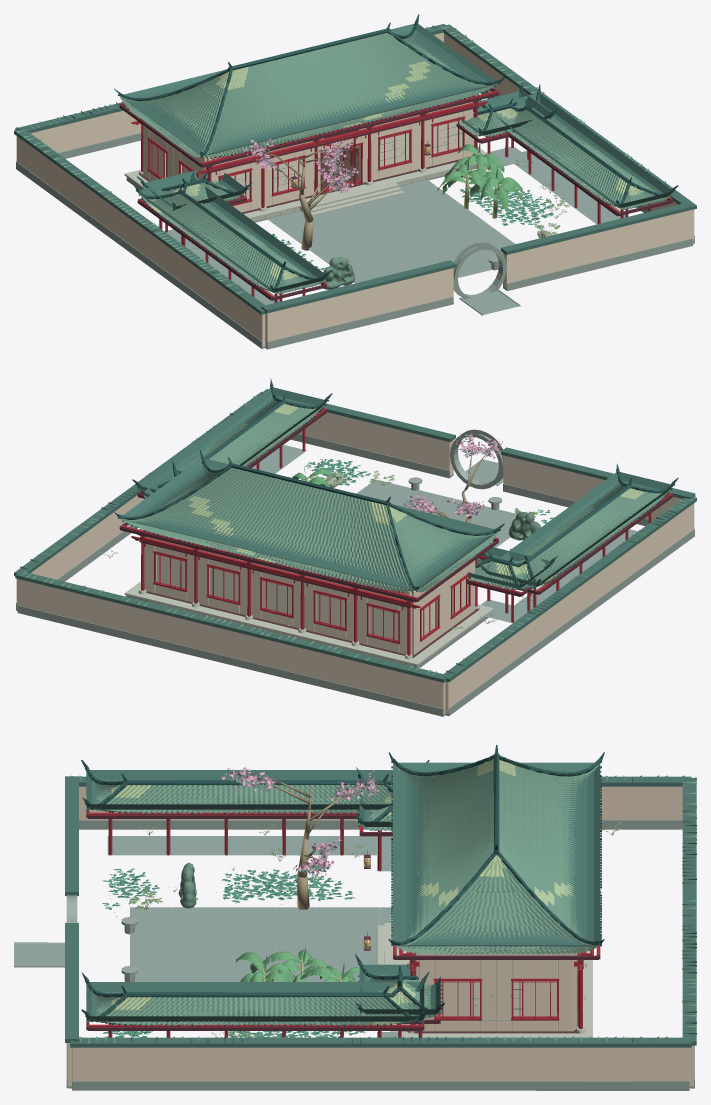
File: yihongyuan.glb
3 views of the same model, one above another, from view 1: azimuth 30°, elevation 25°; view 2: azimuth 150°, elevation 25°; view 3: azimuth 270°, elevation 25° (orthographic). The views are drawn at different scales.
Parts seen in each view (by area): view 1: r15_yihongyuan_Sunwen_r18_crimson_tile.001, r15_yihongyuan_Sunwen_r18_crimson_roof.001, r15_yihongyuan_Sunwen_r18_crimson_plaster.003, Mobile_yihongyuan_paving, r15_yihongyuan_Sunwen_r18_crimson_stone.001, r15_yihongyuan_Sunwen_r18_crimson_wood.001, r15_yihongyuan_Sunwen_r18_crimson_plaster.002, r15_yihongyuan_Sunwen_r18_crimson_tiledark.001, r15_yihongyuan_Sunwen_r18_crimson_darkwood.001, r15_yihongyuan_Sunwen_r18_crimson_cutstone.001, r15_yihongyuan_Sunwen_r18_crimson_screen.001, Mobile_yihongyuan_botanical_banana (+7 smaller); view 2: r15_yihongyuan_Sunwen_r18_crimson_tile.001, r15_yihongyuan_Sunwen_r18_crimson_plaster.003, r15_yihongyuan_Sunwen_r18_crimson_roof.001, r15_yihongyuan_Sunwen_r18_crimson_stone.001, r15_yihongyuan_Sunwen_r18_crimson_plaster.002, r15_yihongyuan_Sunwen_r18_crimson_wood.001, Mobile_yihongyuan_paving, r15_yihongyuan_Sunwen_r18_crimson_tiledark.001, r15_yihongyuan_Sunwen_r18_crimson_screen.001, r15_yihongyuan_Sunwen_r18_crimson_darkwood.001, r15_yihongyuan_Sunwen_r18_crimson_cutstone.001, r15_yihongyuan_Sunwen_r18_crimson_tilelight.001 (+4 smaller); view 3: r15_yihongyuan_Sunwen_r18_crimson_roof.001, r15_yihongyuan_Sunwen_r18_crimson_tile.001, r15_yihongyuan_Sunwen_r18_crimson_plaster.003, Mobile_yihongyuan_paving, r15_yihongyuan_Sunwen_r18_crimson_stone.001, r15_yihongyuan_Sunwen_r18_crimson_tiledark.001, r15_yihongyuan_Sunwen_r18_crimson_plaster.002, r15_yihongyuan_Sunwen_r18_crimson_wood.001, Mobile_yihongyuan_botanical_bamboo, r15_yihongyuan_Sunwen_r18_crimson_darkwood.001, r15_yihongyuan_Sunwen_r18_crimson_tilelight.001, r15_yihongyuan_Sunwen_r18_crimson_cutstone.001 (+6 smaller).
Boxes of the visible parts, left/top/right/bottom form: r15_yihongyuan_Sunwen_r18_crimson_tile.001: left=16, top=25, right=689, bottom=310; r15_yihongyuan_Sunwen_r18_crimson_roof.001: left=14, top=24, right=696, bottom=314; r15_yihongyuan_Sunwen_r18_crimson_plaster.003: left=16, top=32, right=694, bottom=347; Mobile_yihongyuan_paving: left=164, top=146, right=625, bottom=314; r15_yihongyuan_Sunwen_r18_crimson_stone.001: left=16, top=91, right=694, bottom=349; r15_yihongyuan_Sunwen_r18_crimson_wood.001: left=120, top=90, right=672, bottom=302; r15_yihongyuan_Sunwen_r18_crimson_plaster.002: left=143, top=95, right=474, bottom=212; r15_yihongyuan_Sunwen_r18_crimson_tiledark.001: left=114, top=14, right=678, bottom=291; r15_yihongyuan_Sunwen_r18_crimson_darkwood.001: left=119, top=87, right=672, bottom=300; r15_yihongyuan_Sunwen_r18_crimson_cutstone.001: left=124, top=147, right=486, bottom=221; r15_yihongyuan_Sunwen_r18_crimson_screen.001: left=166, top=120, right=462, bottom=199; Mobile_yihongyuan_botanical_banana: left=437, top=141, right=523, bottom=211; r15_yihongyuan_Sunwen_r18_crimson_tile.001: left=20, top=390, right=696, bottom=678; r15_yihongyuan_Sunwen_r18_crimson_plaster.003: left=16, top=412, right=694, bottom=714; r15_yihongyuan_Sunwen_r18_crimson_roof.001: left=14, top=387, right=696, bottom=682; r15_yihongyuan_Sunwen_r18_crimson_stone.001: left=16, top=429, right=694, bottom=716; r15_yihongyuan_Sunwen_r18_crimson_plaster.002: left=144, top=530, right=475, bottom=654; r15_yihongyuan_Sunwen_r18_crimson_wood.001: left=120, top=408, right=672, bottom=655; Mobile_yihongyuan_paving: left=252, top=444, right=637, bottom=623; r15_yihongyuan_Sunwen_r18_crimson_tiledark.001: left=114, top=378, right=678, bottom=592; r15_yihongyuan_Sunwen_r18_crimson_screen.001: left=156, top=555, right=452, bottom=640; r15_yihongyuan_Sunwen_r18_crimson_darkwood.001: left=119, top=408, right=672, bottom=657; r15_yihongyuan_Sunwen_r18_crimson_cutstone.001: left=124, top=581, right=493, bottom=666; r15_yihongyuan_Sunwen_r18_crimson_tilelight.001: left=188, top=402, right=644, bottom=583; r15_yihongyuan_Sunwen_r18_crimson_roof.001: left=65, top=762, right=696, bottom=1047; r15_yihongyuan_Sunwen_r18_crimson_tile.001: left=71, top=762, right=696, bottom=1043; r15_yihongyuan_Sunwen_r18_crimson_plaster.003: left=67, top=786, right=694, bottom=1086; Mobile_yihongyuan_paving: left=14, top=836, right=398, bottom=1037; r15_yihongyuan_Sunwen_r18_crimson_stone.001: left=14, top=820, right=694, bottom=1090; r15_yihongyuan_Sunwen_r18_crimson_tiledark.001: left=81, top=745, right=604, bottom=1026; r15_yihongyuan_Sunwen_r18_crimson_plaster.002: left=416, top=949, right=577, bottom=1031; r15_yihongyuan_Sunwen_r18_crimson_wood.001: left=88, top=809, right=599, bottom=1037; Mobile_yihongyuan_botanical_bamboo: left=102, top=773, right=376, bottom=1037; r15_yihongyuan_Sunwen_r18_crimson_darkwood.001: left=86, top=809, right=600, bottom=1033; r15_yihongyuan_Sunwen_r18_crimson_tilelight.001: left=111, top=759, right=574, bottom=1025; r15_yihongyuan_Sunwen_r18_crimson_cutstone.001: left=378, top=923, right=592, bottom=1037.
Bounding box in the file's own units: 32.76 × 9.61 × 35.38.
